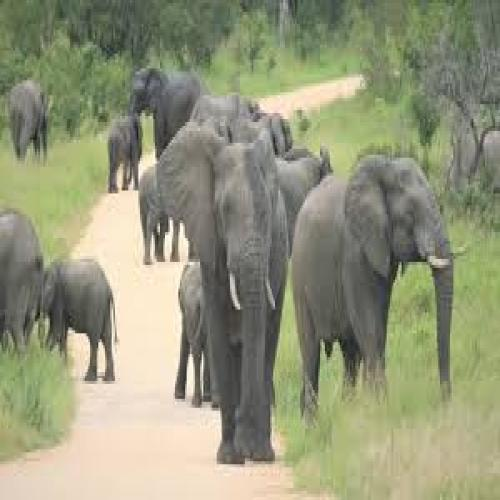asian_elephant-endangered: (292, 149, 469, 410), (158, 122, 292, 460), (37, 262, 118, 384), (174, 259, 220, 403), (130, 68, 204, 153), (8, 78, 49, 158), (108, 113, 144, 191)
